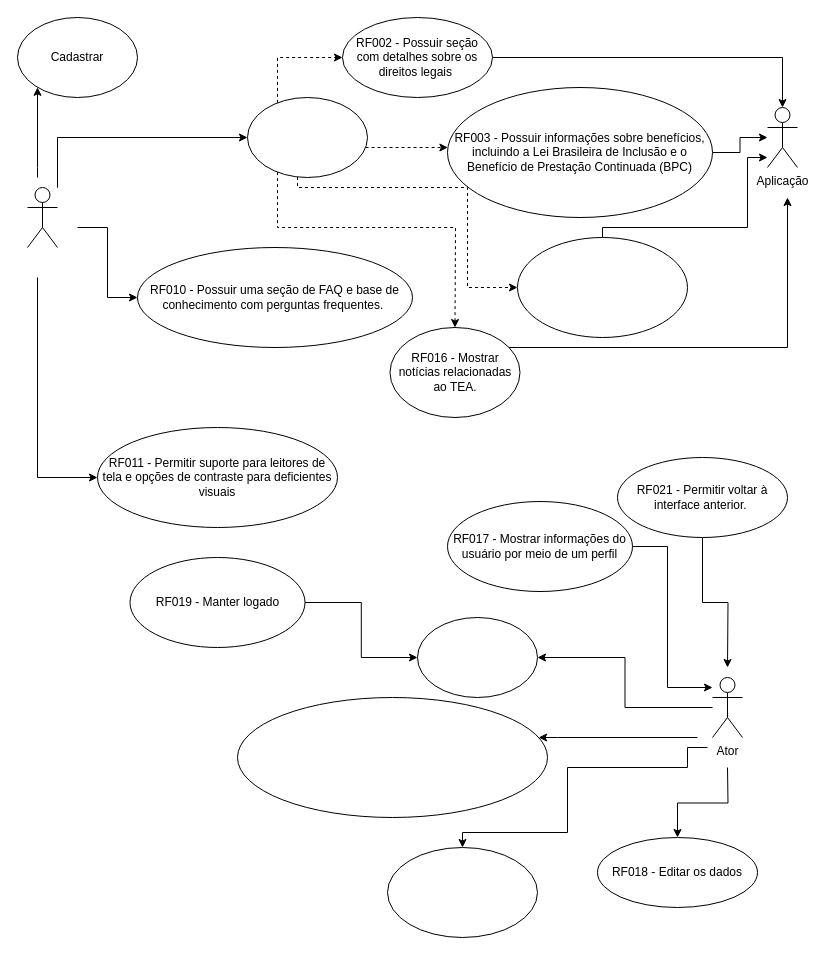
Image size: 826x955. Some labels were removed from this diagram. The shapes that lost their labels are listed below. From the top down, each one's centre as x and y in pixels, then its label:
At [307,137]: "RF04 - Possuir guia de benefícios e direitos".
At [42,217]: "Sistema".
At [602,287]: "RF05 - Mostrar lista de documentos necessários para cada tipo de benefício".
At [477,657]: "Logar".
At [392,757]: "RF014 - Criar uma sessão de pergunta no fórum".
At [462,892]: "RF020 - Sair da sua conta no dispositivo".
